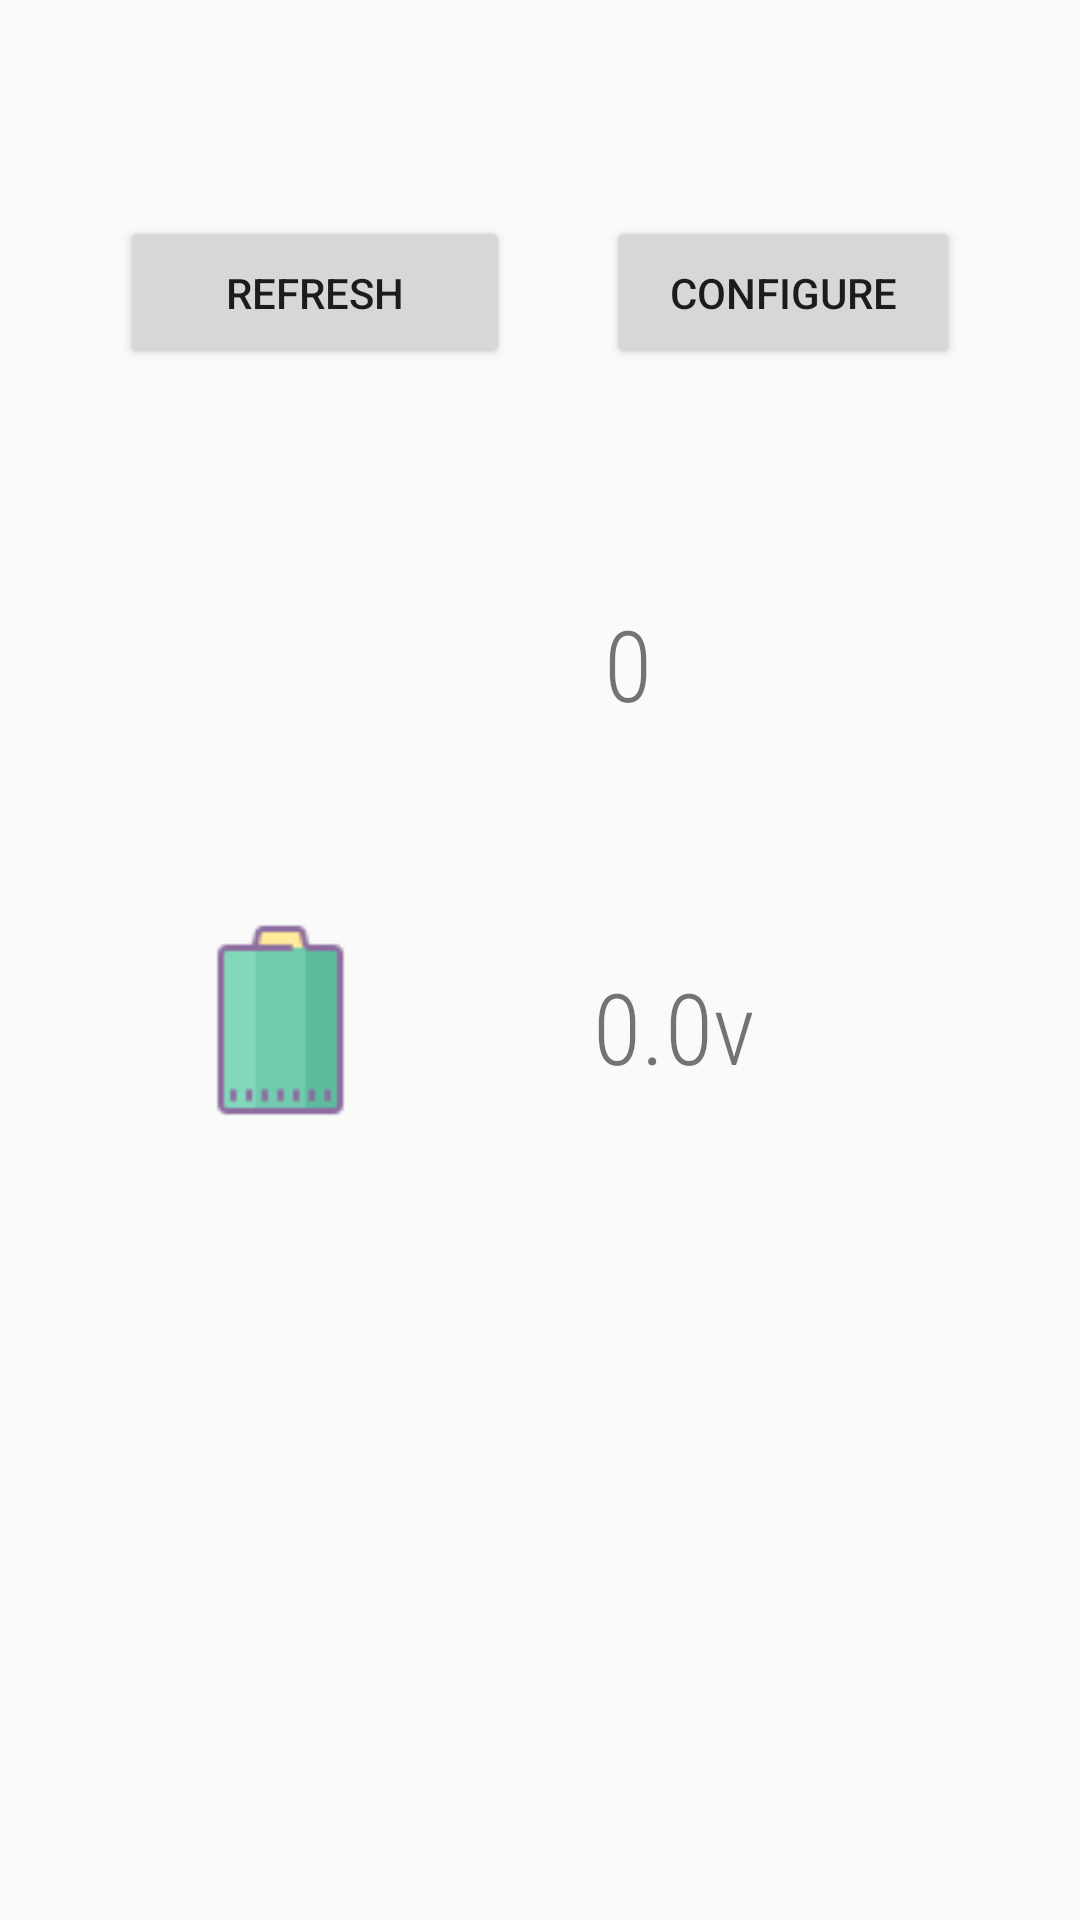

Icons on this 1080 × 1920 Android screen, each with its box as (x1, y1, x2, y2):
batt: (217, 925, 344, 1115)
